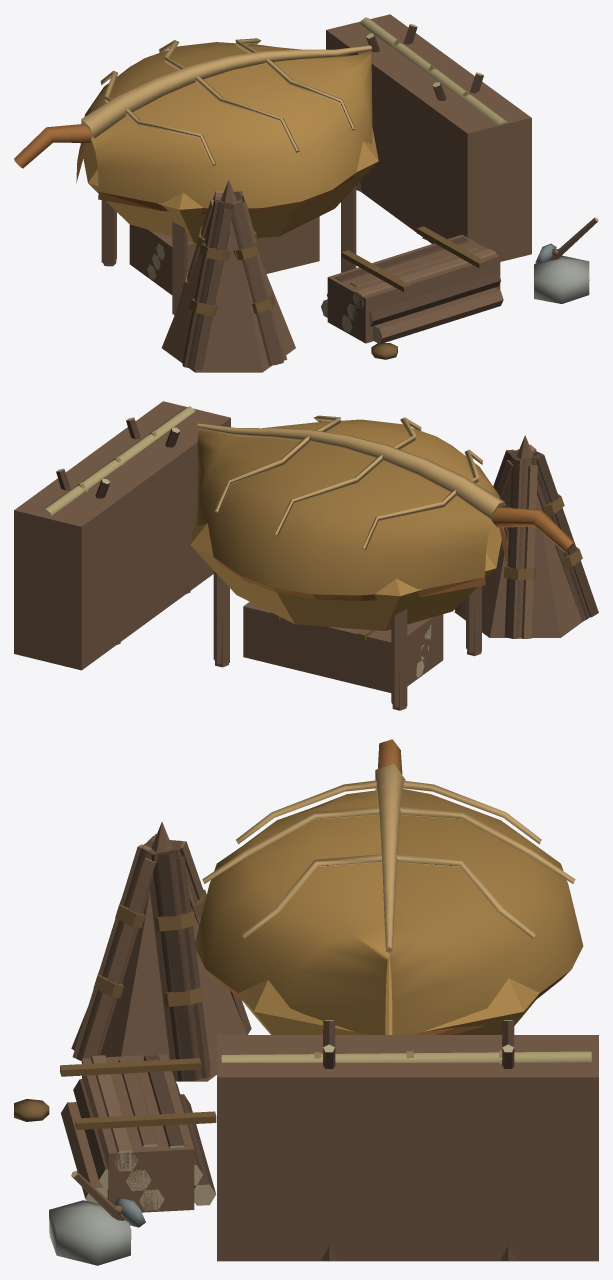
The model's file is hut.glb.
3 renders of one model, top to bottom at view 1: azimuth 30°, elevation 25°; view 2: azimuth 150°, elevation 25°; view 3: azimuth 270°, elevation 25°, orthographic. The views are drawn at different scales.
Parts seen in each view (by area): view 1: body__far, body_nl, body, body_nh; view 2: body__far, body_nl, body, body_nh; view 3: body__far, body_nl, body, body_nh.
Part boxes in pixels (x1=…): body__far: x1=80, y1=14, x2=531, y2=372; body_nl: x1=14, y1=17, x2=558, y2=315; body: x1=14, y1=24, x2=598, y2=370; body_nh: x1=100, y1=38, x2=355, y2=166; body__far: x1=14, y1=401, x2=582, y2=707; body_nl: x1=40, y1=406, x2=574, y2=710; body: x1=56, y1=417, x2=598, y2=645; body_nh: x1=214, y1=415, x2=482, y2=550; body__far: x1=71, y1=821, x2=598, y2=1261; body_nl: x1=115, y1=789, x2=591, y2=1214; body: x1=14, y1=739, x2=515, y2=1265; body_nh: x1=202, y1=780, x2=575, y2=938.
Bounding box in the file's own units: 3.05 × 1.34 × 2.45.
